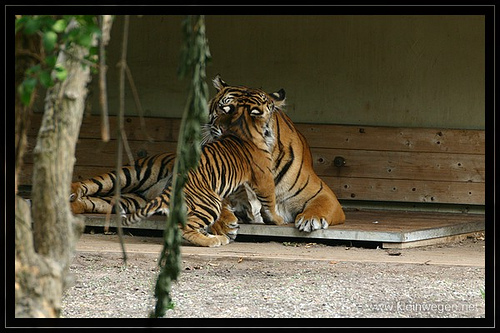Tigre: (202, 80, 307, 163)
